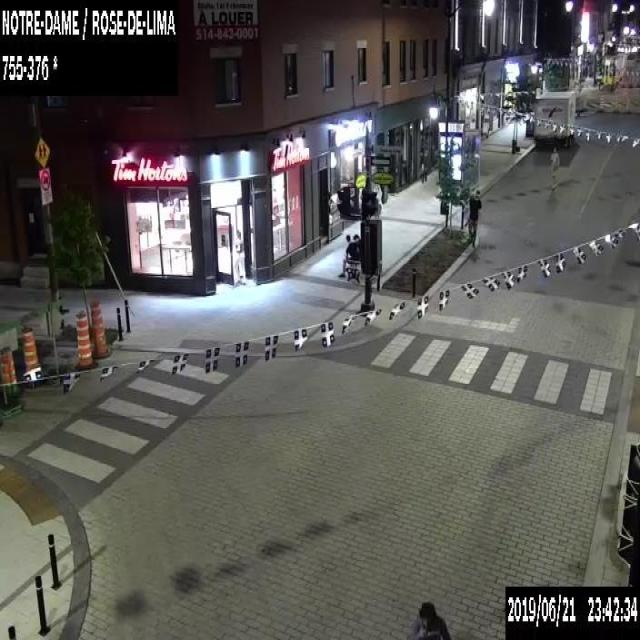construction: (75, 310, 97, 370), (90, 301, 111, 357), (0, 347, 19, 402), (20, 328, 38, 379), (598, 92, 603, 111), (624, 90, 628, 110), (614, 90, 618, 110), (620, 70, 624, 87), (628, 73, 632, 88), (583, 92, 586, 110)
pedestrian: (406, 602, 449, 638), (466, 188, 482, 246), (338, 234, 356, 278), (549, 146, 559, 188)
vehicle: (534, 91, 574, 149)
